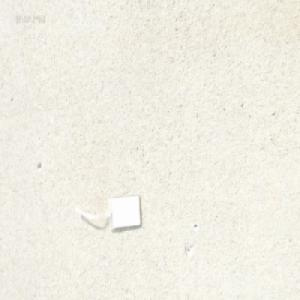LuggageTag: (74, 192, 144, 233)
